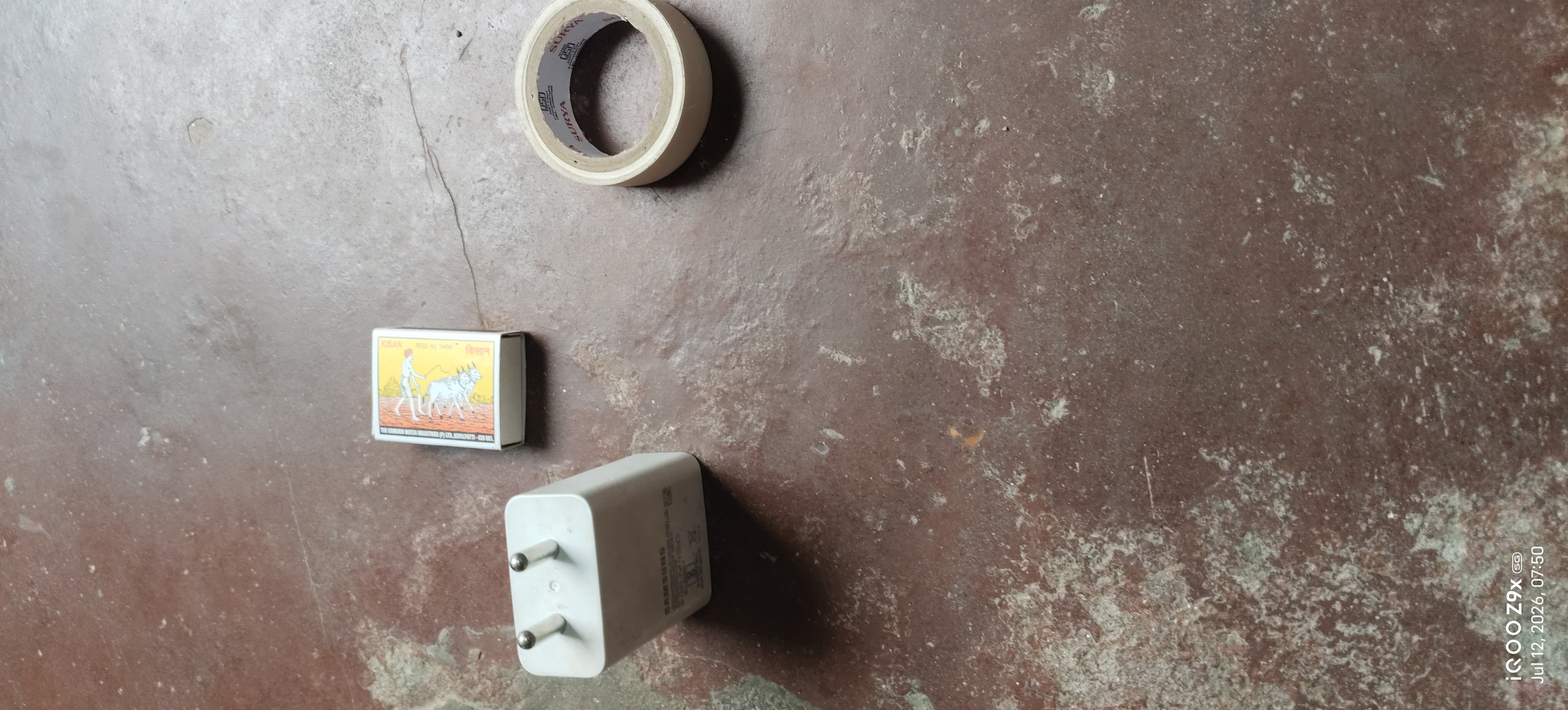charger: (488, 431, 757, 693)
matchbox: (341, 296, 540, 466)
tape_roll: (486, 0, 760, 230)
